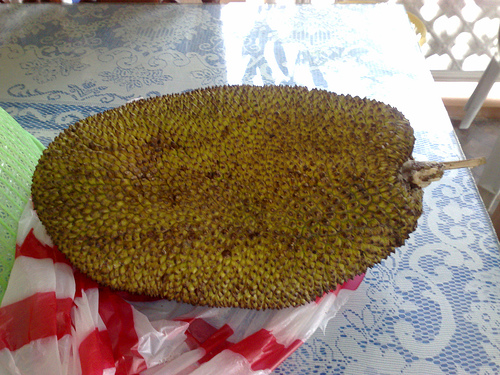jackfruit: (30, 84, 489, 309)
